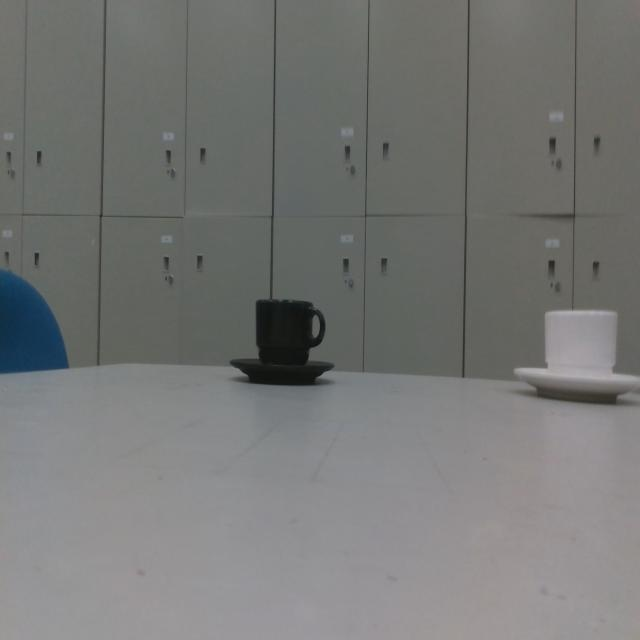black: (229, 291, 336, 385)
white: (512, 306, 640, 406)
